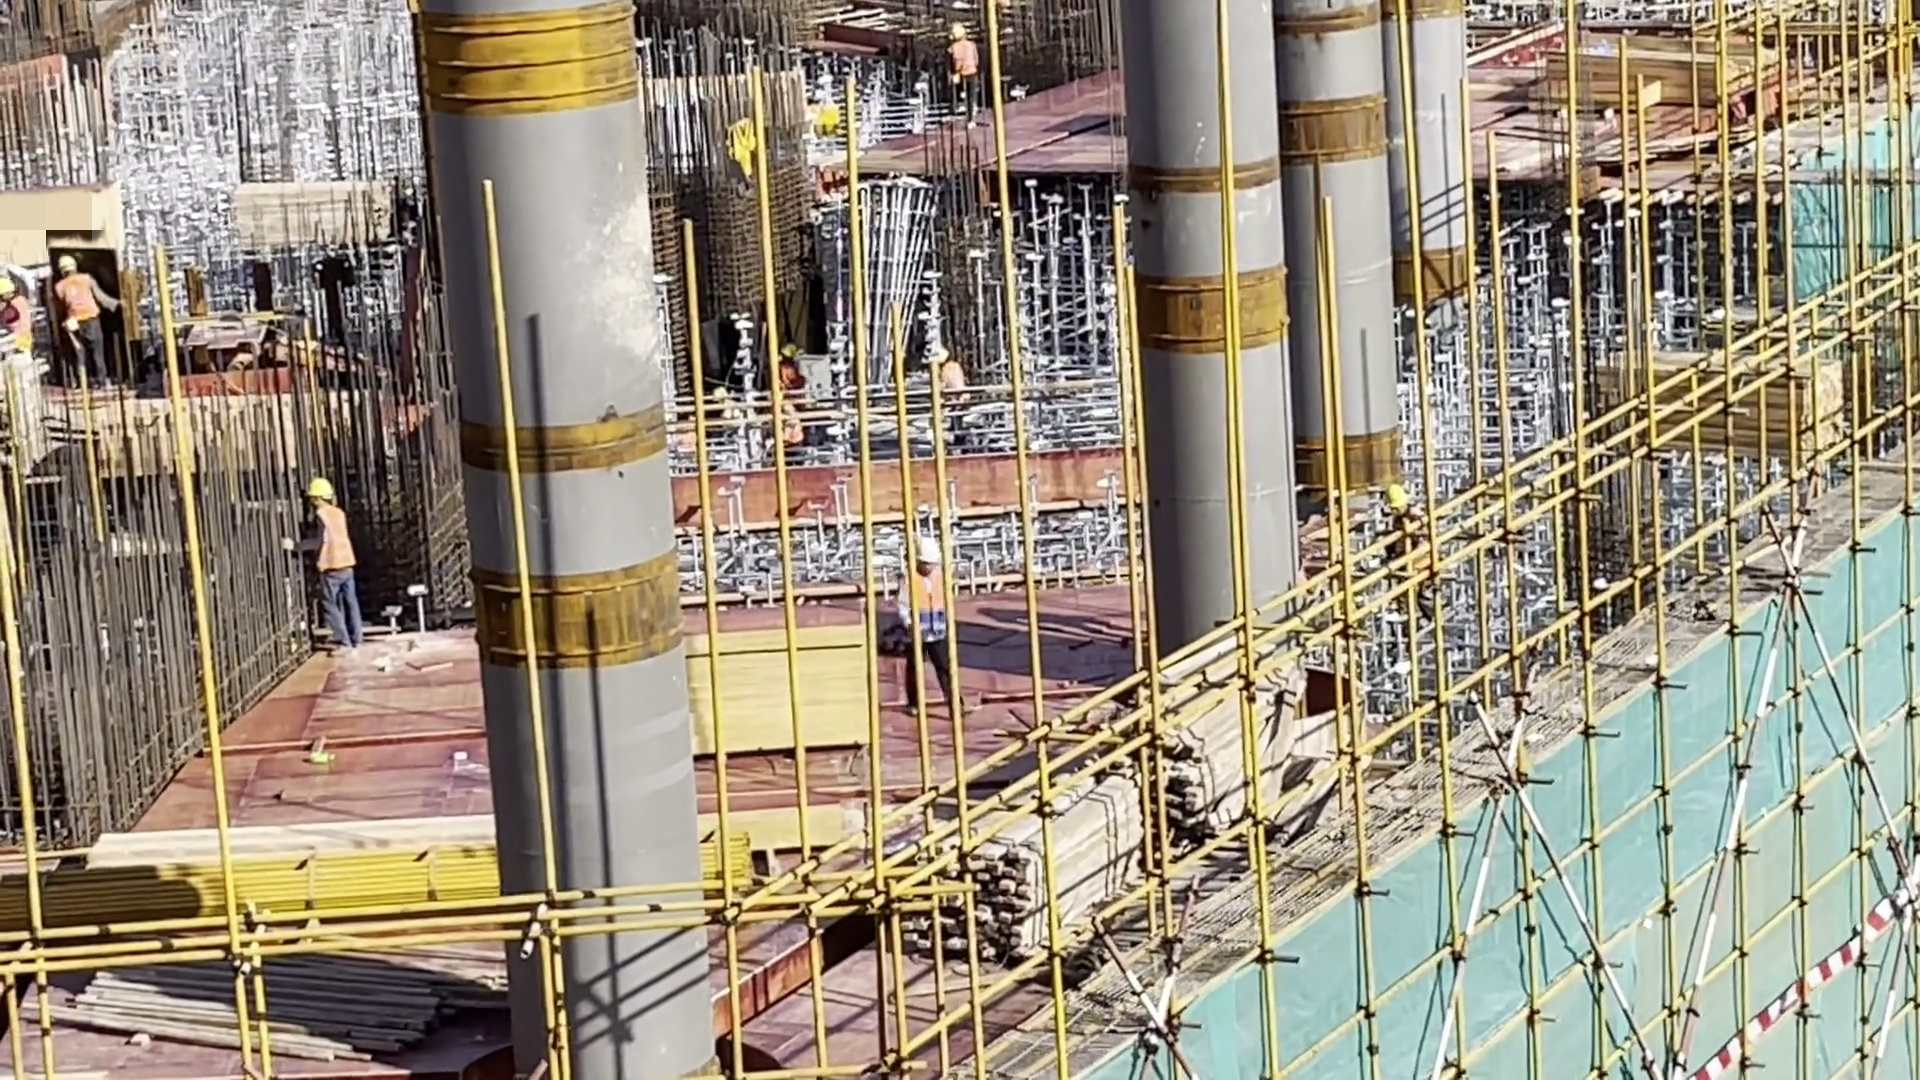helmet: (296, 478, 334, 521), (908, 532, 936, 566), (947, 17, 970, 49), (917, 342, 940, 366), (54, 256, 75, 279), (1, 278, 17, 301)
person: (890, 531, 973, 724), (290, 472, 368, 640), (1379, 486, 1453, 618), (52, 253, 121, 373), (913, 342, 988, 452), (755, 388, 809, 468), (944, 25, 984, 123), (1, 278, 37, 371), (712, 382, 748, 438), (771, 347, 811, 394)
vest: (310, 504, 364, 583), (902, 565, 953, 645), (62, 276, 104, 329), (949, 45, 978, 80)
